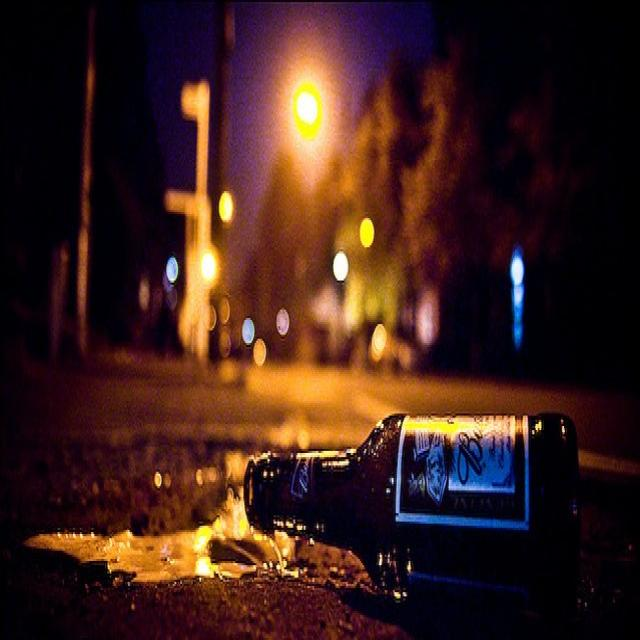Bottle: (241, 377, 576, 636)
